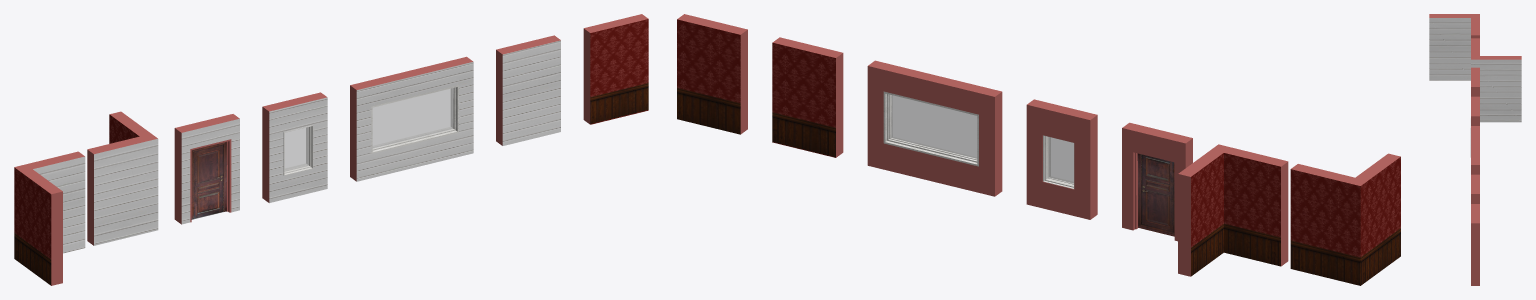
The model's file is blockhouse.fbx.
3 renders of one model, left to right at view 1: azimuth 30°, elevation 25°; view 2: azimuth 150°, elevation 25°; view 3: azimuth 270°, elevation 25°, orthographic. The views are drawn at different scales.
Parts seen in each view (by area): view 1: Cube.002, Cube.003, Cube.006, Cube, Cube.004, Cube.005, Cube.001, Cube.007, Cube.012; view 2: Cube.002, Cube.003, Cube.006, Cube, Cube.005, Cube.004, Cube.001, Cube.007, Cube.012; view 3: Cube.003, Cube.006, Cube.004, Cube.002, Cube, Cube.001, Cube.005.
Part boxes in pixels (x1=…): Cube.002: x1=350, y1=56, x2=473, y2=181; Cube.003: x1=87, y1=111, x2=158, y2=245; Cube.006: x1=14, y1=151, x2=85, y2=285; Cube: x1=262, y1=92, x2=327, y2=202; Cube.004: x1=583, y1=14, x2=648, y2=124; Cube.005: x1=496, y1=35, x2=560, y2=145; Cube.001: x1=174, y1=114, x2=239, y2=224; Cube.007: x1=191, y1=141, x2=226, y2=219; Cube.012: x1=190, y1=139, x2=231, y2=222; Cube.002: x1=867, y1=60, x2=1002, y2=196; Cube.003: x1=1178, y1=144, x2=1288, y2=276; Cube.006: x1=1290, y1=153, x2=1400, y2=285; Cube: x1=1026, y1=99, x2=1097, y2=219; Cube.005: x1=772, y1=37, x2=843, y2=157; Cube.004: x1=677, y1=14, x2=747, y2=134; Cube.001: x1=1122, y1=122, x2=1192, y2=241; Cube.007: x1=1137, y1=153, x2=1174, y2=236; Cube.012: x1=1131, y1=150, x2=1176, y2=240; Cube.003: x1=1471, y1=38, x2=1521, y2=122; Cube.006: x1=1429, y1=14, x2=1479, y2=80; Cube.004: x1=1471, y1=204, x2=1479, y2=285; Cube.002: x1=1471, y1=126, x2=1479, y2=174; Cube: x1=1470, y1=96, x2=1479, y2=157; Cube.001: x1=1471, y1=67, x2=1479, y2=96; Cube.005: x1=1471, y1=174, x2=1479, y2=203.
Bounding box in the file's own units: 2150 × 300 × 400.
Materials: 6 (4 with a texture image).
